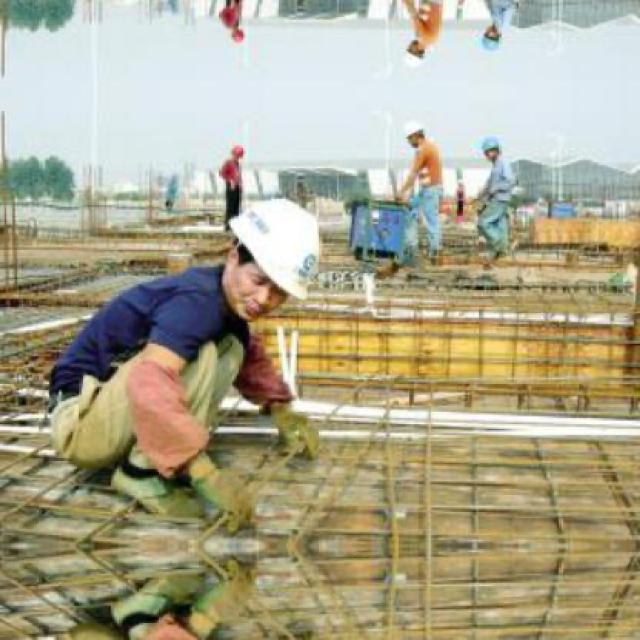con casco: (193, 195, 339, 313), (445, 126, 510, 192), (381, 118, 458, 158), (201, 132, 261, 167)
